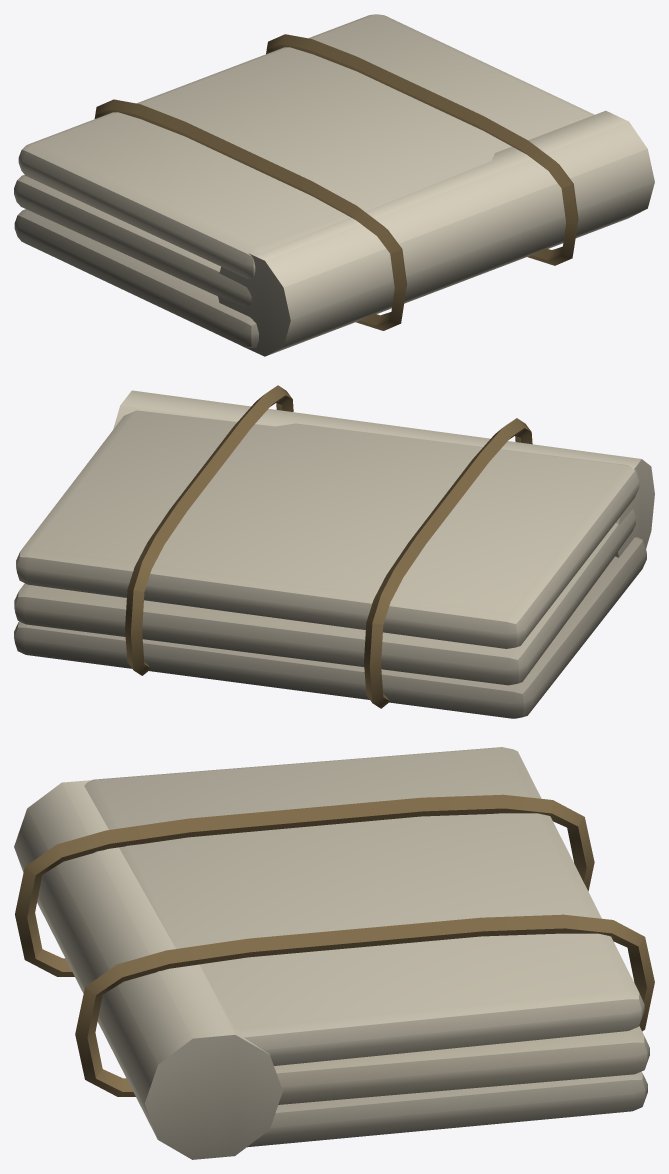
The model's file is ph_item_shroud.glb.
3 renders of one model, top to bottom at view 1: azimuth 30°, elevation 25°; view 2: azimuth 150°, elevation 25°; view 3: azimuth 270°, elevation 25°, orthographic. The views are drawn at different scales.
Visible parts, largest first — view 1: ph_item_shroud; view 2: ph_item_shroud; view 3: ph_item_shroud.
Part boxes in pixels (box(x1,y1,x2,y2)): ph_item_shroud: box(14, 14, 654, 356); ph_item_shroud: box(14, 385, 654, 718); ph_item_shroud: box(14, 747, 654, 1159).
Size of the model in its own units: 0.3475 by 0.0807 by 0.3093.
